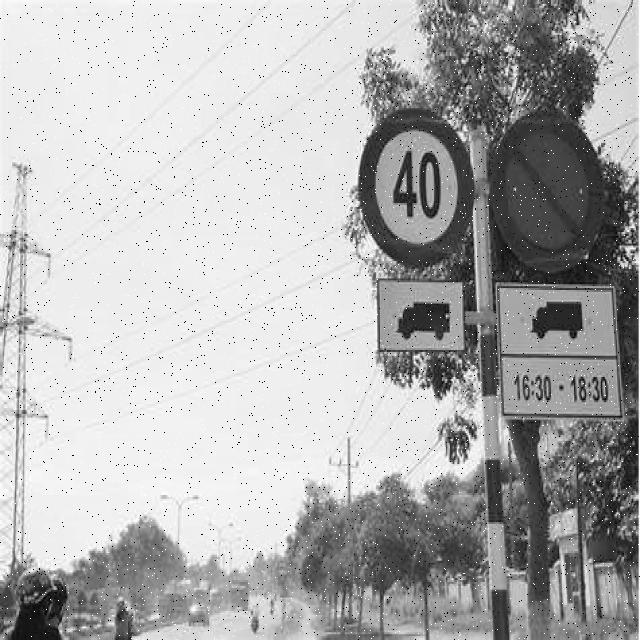No_parking: (498, 104, 606, 267)
speedlimit_40: (355, 110, 476, 264)
